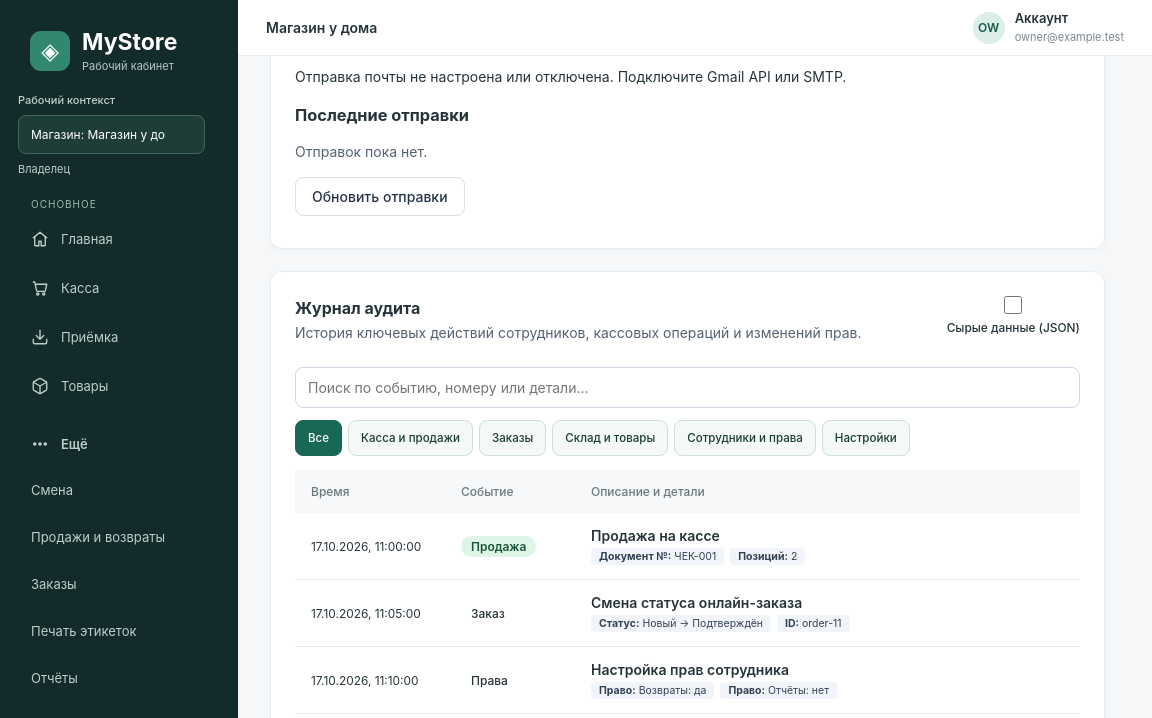
Scenario: renders human-readable audit log with categories, badges, and search filtering
(page scrolled)
Expected: the heading "Журнал аудита" is shown, [295, 298, 420, 318]
Expected: the text "Продажа на кассе" is shown, [591, 527, 720, 544]
// Search filter
Type "кассе" into the search field named "Поиск по журналу аудита" at (688, 388), box [295, 367, 1080, 408]
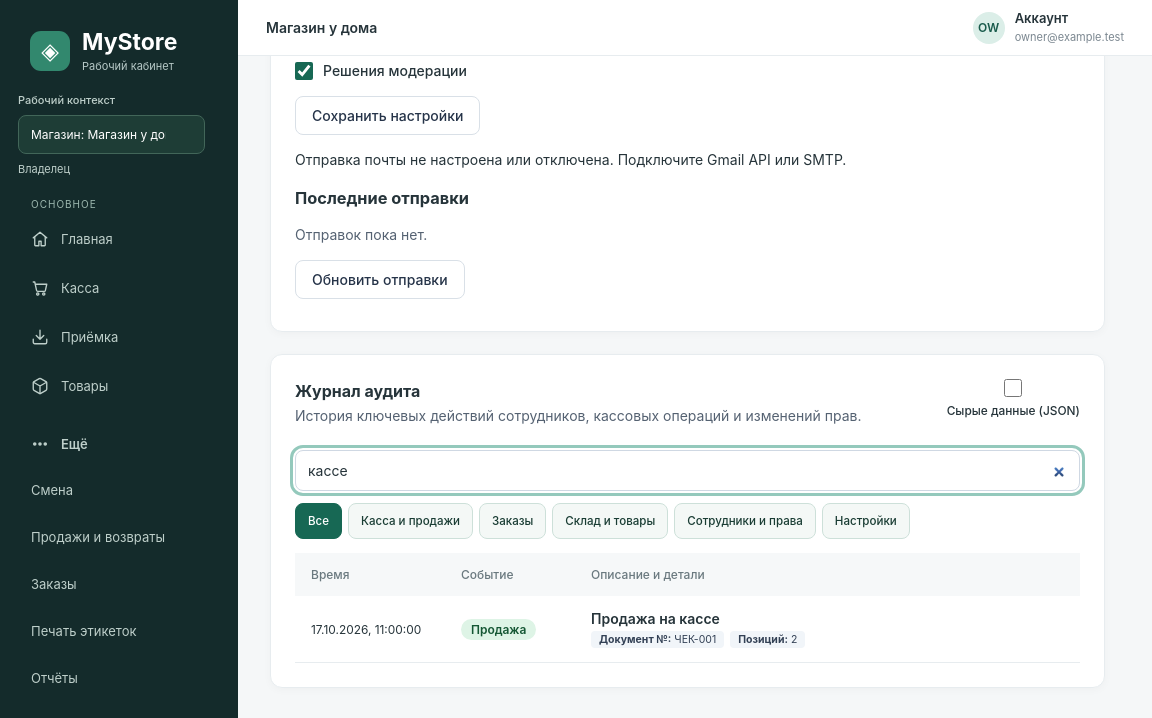
Expected: the text "Продажа на кассе" is shown, [591, 610, 720, 627]
Result: the text "Смена статуса онлайн-заказа" is gone
// Clear search and test category filter
Clear the search field named "Поиск по журналу аудита" at (688, 471), box [295, 450, 1080, 491]
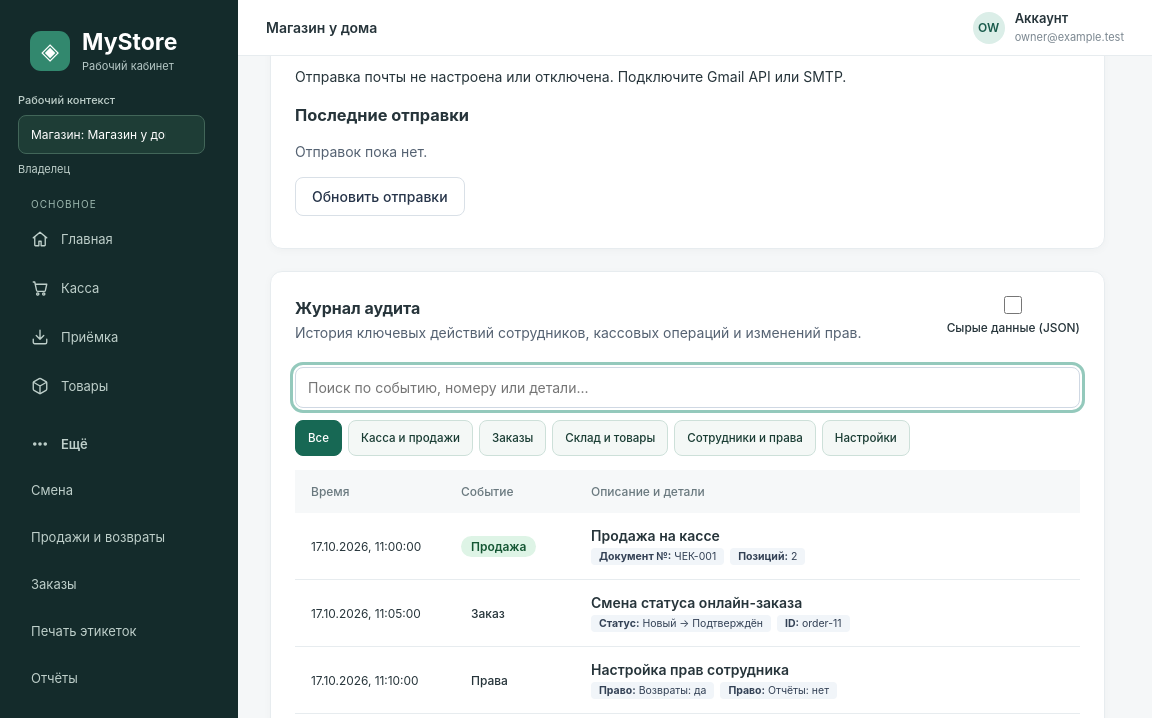
Click the button "Заказы" at (513, 438), box [479, 420, 546, 456]
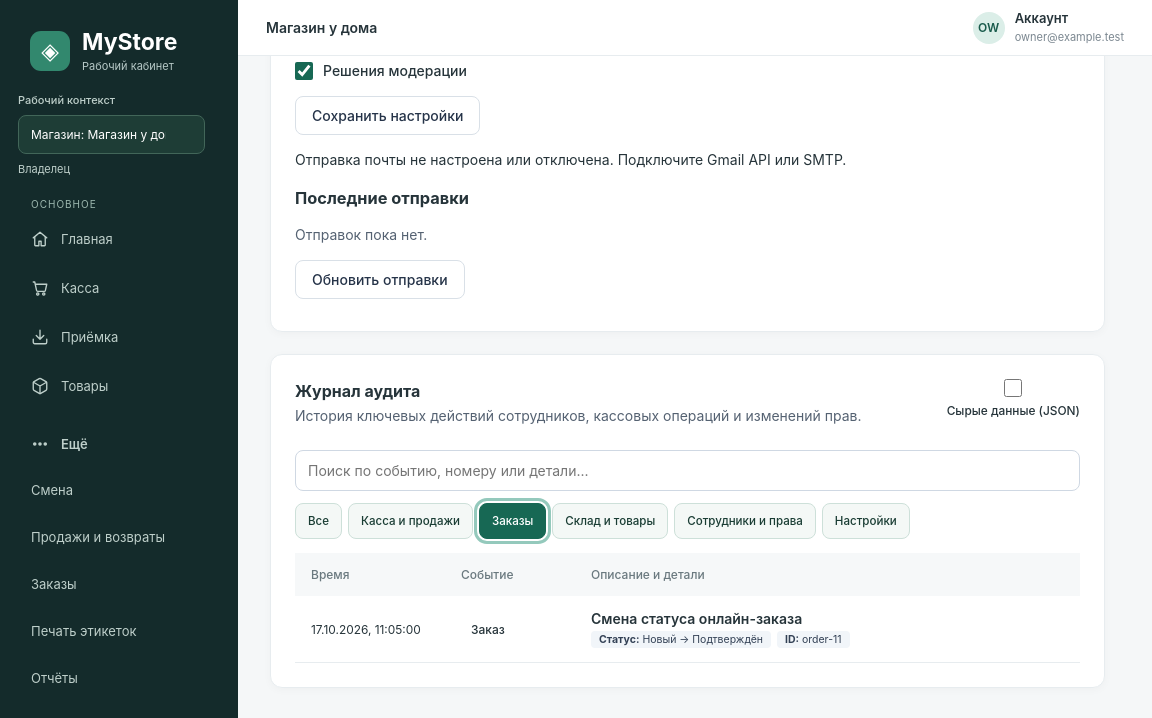
Result: the text "Смена статуса онлайн-заказа" is shown at [591, 610, 802, 627]
Result: the text "Продажа на кассе" is gone
// Test Raw JSON toggle
Click the checkbox labelled "Сырые данные (JSON)" at (1013, 388), box [1004, 379, 1022, 397]
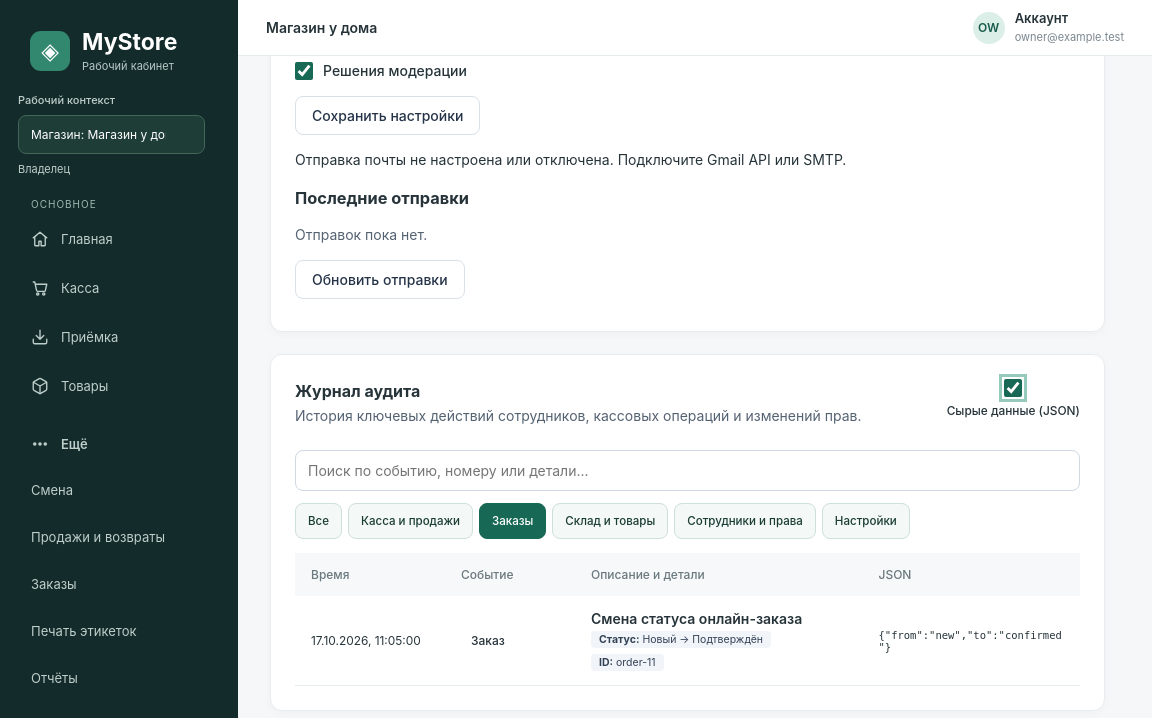
Result: the column heading "JSON" is shown at [862, 553, 1080, 596]
